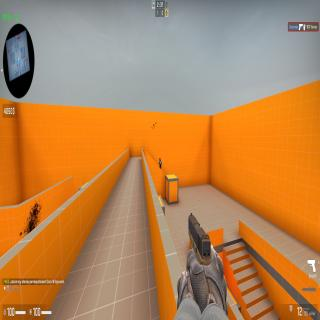T-Body: (158, 158, 162, 169)
T-Head: (159, 158, 161, 161)
